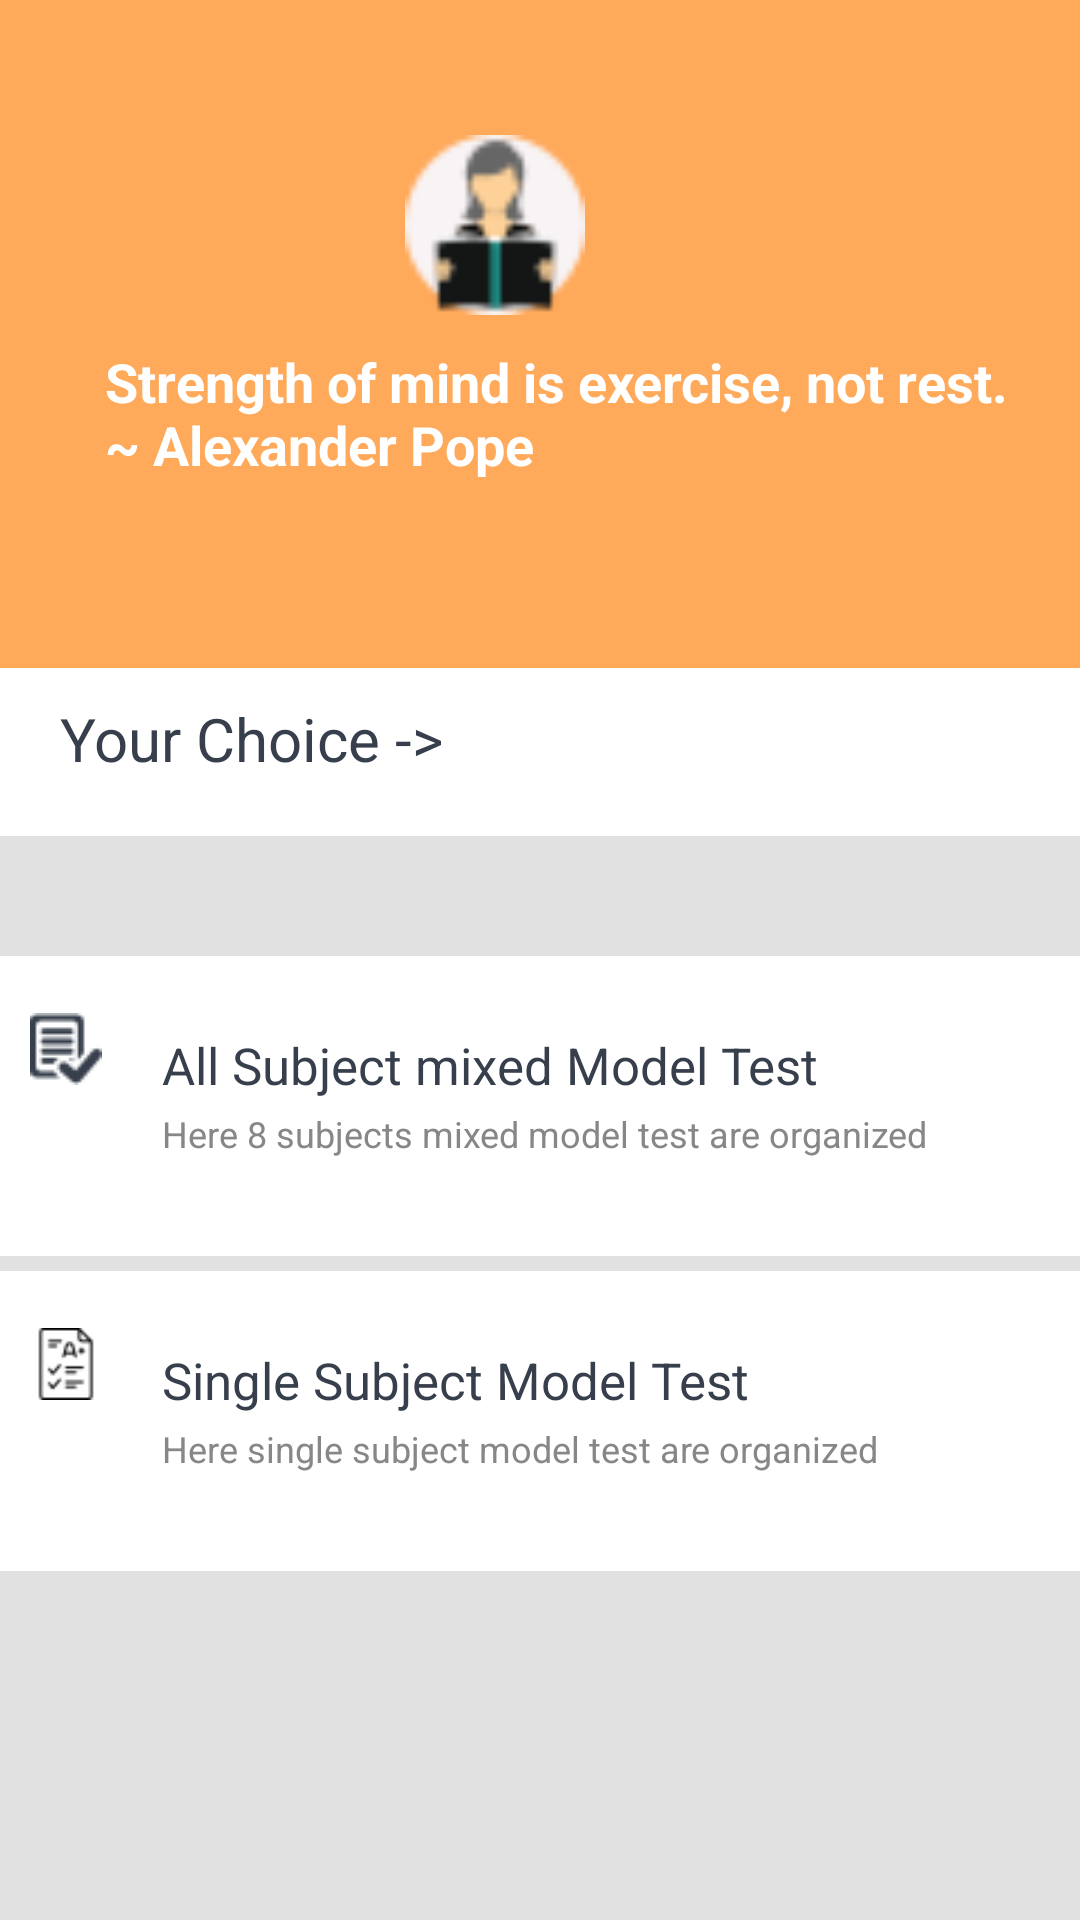

Icons on this 1080×1920 Android screen, each with the point to tap as [x,y]:
learning: [495,225]
